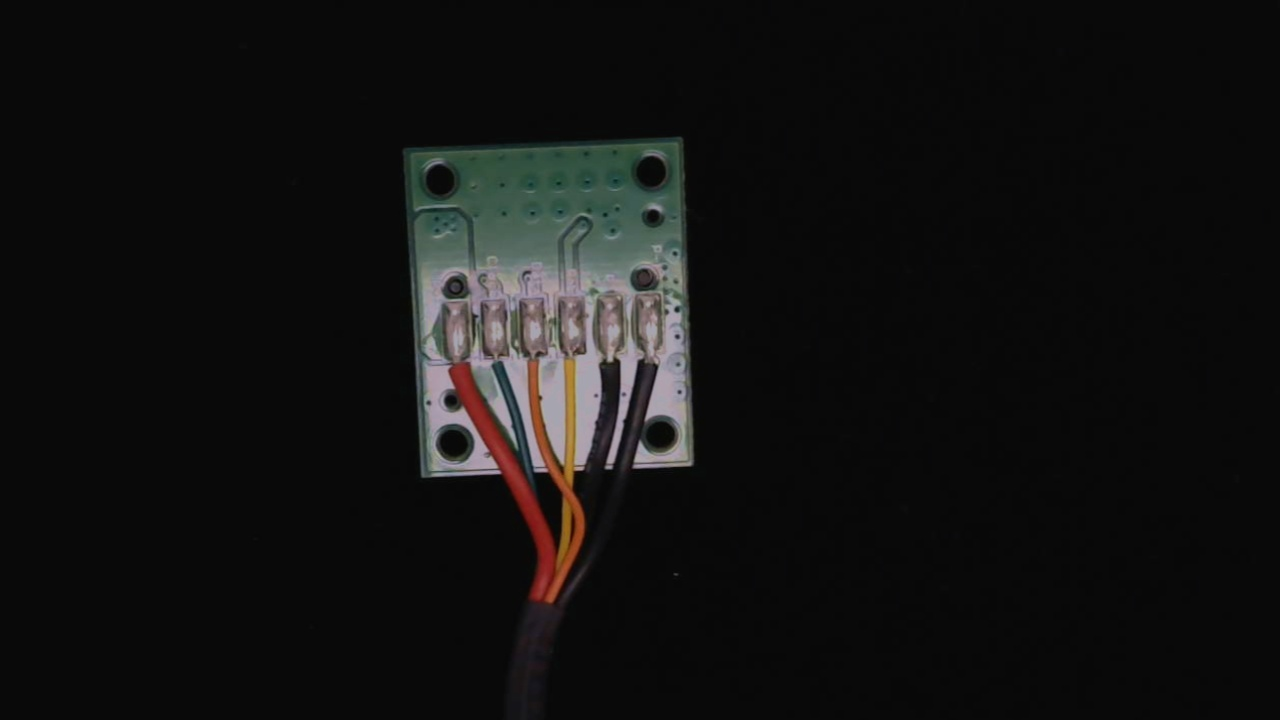Black: (593, 333, 628, 406)
Black1: (636, 329, 669, 396)
Green: (480, 335, 511, 394)
Orange: (520, 338, 550, 407)
Red: (441, 339, 476, 410)
Yellow: (557, 335, 591, 409)
